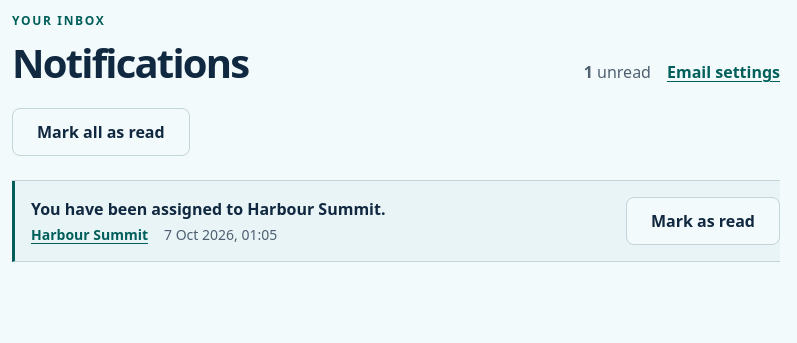
it: AC2 - marking notifications read › [QA-SPL-101-024] a network failure while marking all read leaves the count unchanged
This screenshot has width=797, height=343.
Click the button "Mark all as read" at (101, 132), box [12,108,190,156]
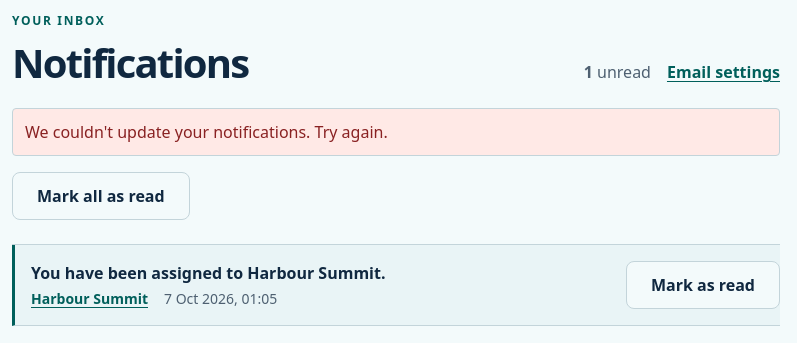
Check: the message "1 unread" is shown, box [584,61,651,83]
Check: the message "We couldn't update your notifications. Try again." is shown, box [12,108,780,156]
